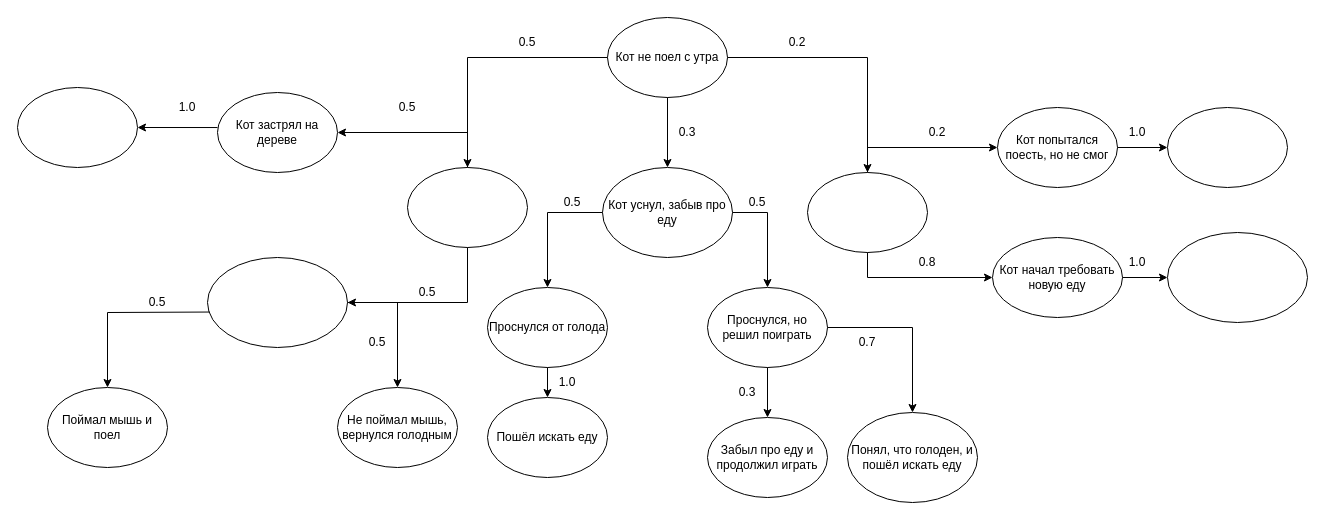
This 1325x520 diagram has some shape labels left out. Here are the shapes that lost their labels. From the top down, the box of each, then its label:
(16, 86, 138, 168): Кот мяукает, ожидая помощи
(1166, 106, 1288, 188): Остался голодным
(406, 166, 528, 248): Кот убежал из дома
(806, 172, 928, 252): Еда оказалась испорченной
(1166, 232, 1308, 322): Хозяин накормил его
(206, 256, 348, 348): Кот пошёл охотиться на мышей
